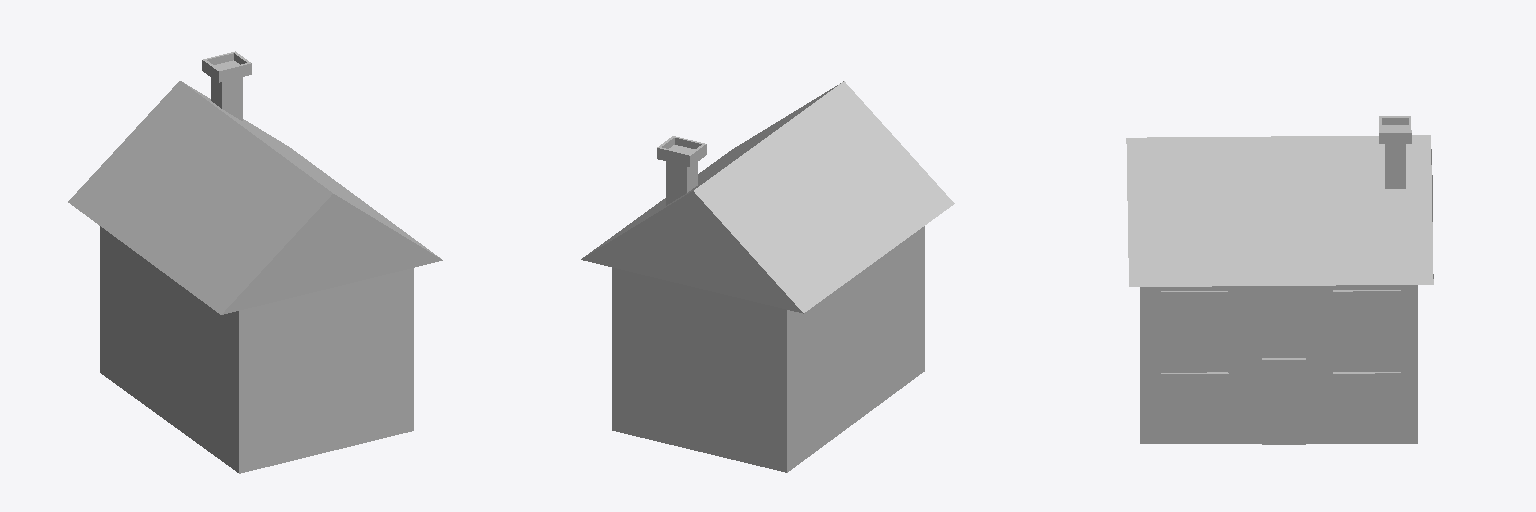
File: House1.obj
3 renders of one model, left to right at view 1: azimuth 30°, elevation 25°; view 2: azimuth 150°, elevation 25°; view 3: azimuth 270°, elevation 25°, orthographic.
Visible parts, largest first — view 1: Cube; view 2: Cube; view 3: Cube.
Part boxes in pixels (x1,y1,x2,y2): Cube: (68, 51, 442, 473); Cube: (581, 81, 954, 472); Cube: (1126, 116, 1433, 444).
Size of the model in its own units: 73.41 by 91.05 by 87.19.